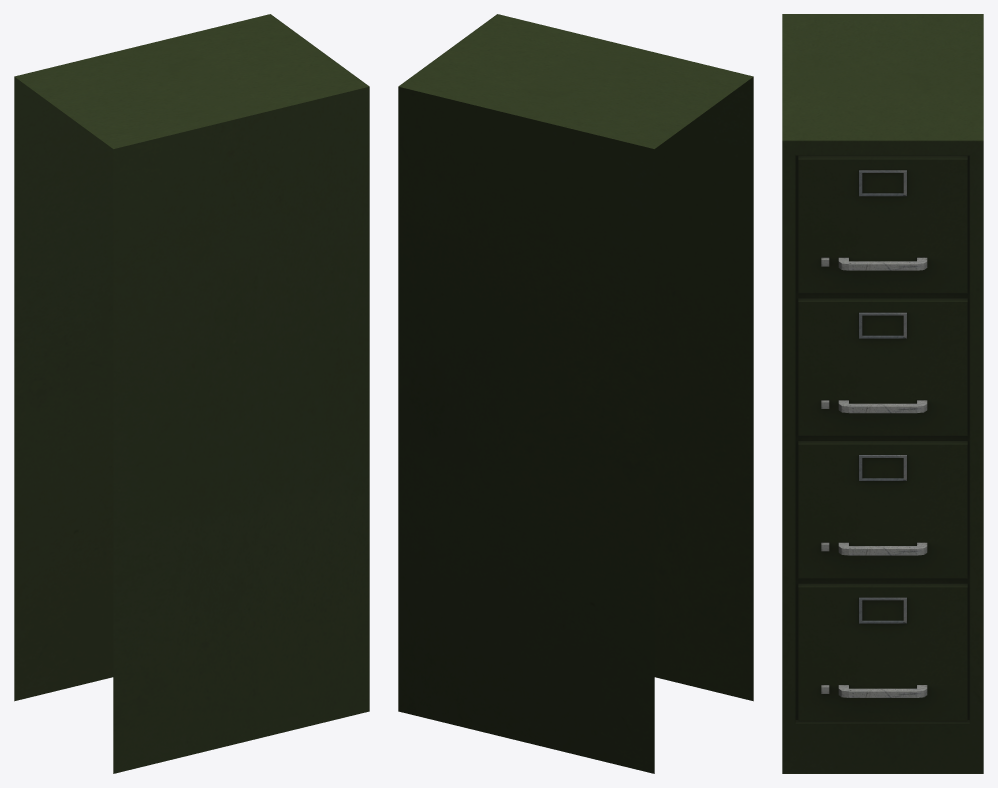
File: filecabinet.fbx
The picture shows the model from 3 angles, left to right: view 1: azimuth 30°, elevation 25°; view 2: azimuth 150°, elevation 25°; view 3: azimuth 270°, elevation 25°; orthographic projection.
Visible parts, largest first — view 1: FilingCabinet; view 2: FilingCabinet; view 3: FilingCabinet.
Part boxes in pixels (x1,y1,x2,y2): FilingCabinet: [14, 14, 369, 773]; FilingCabinet: [398, 14, 753, 773]; FilingCabinet: [782, 14, 983, 773].
Size of the model in its own units: 0.5953 by 1.32 by 0.38.
